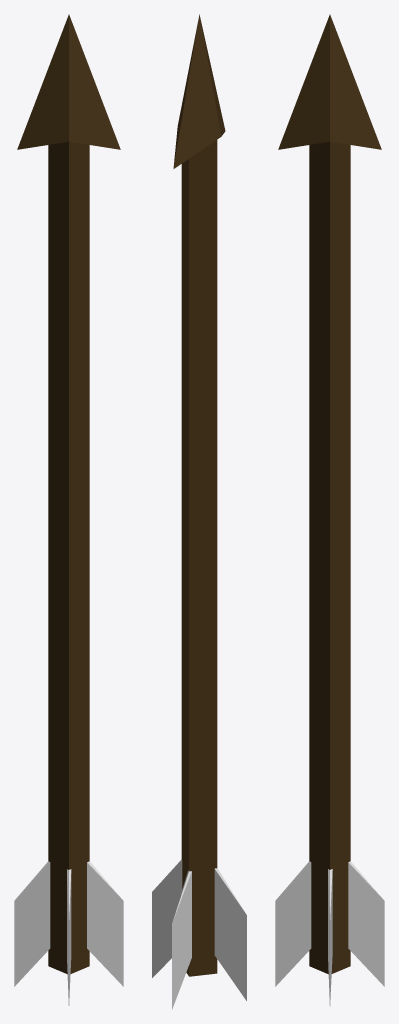
Rendered from arrow.glb.
3 renders of one model, left to right at view 1: azimuth 90°, elevation 25°; view 2: azimuth 150°, elevation 25°; view 3: azimuth 270°, elevation 25°, orthographic.
Visible parts, largest first — view 1: wood/metal; view 2: wood/metal; view 3: wood/metal.
Boxes of the visible parts, x1,y1,x2,y2 form: wood/metal: (14, 14, 123, 1005); wood/metal: (152, 14, 246, 1009); wood/metal: (275, 14, 384, 1006).
Bounding box in the file's own units: 0.2636 × 2.59 × 0.2636.
